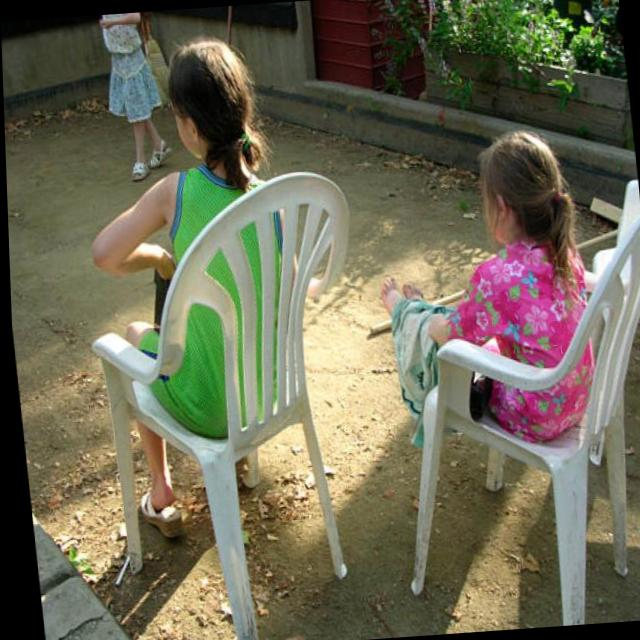no helmet: (153, 29, 282, 202), (466, 120, 589, 286)
